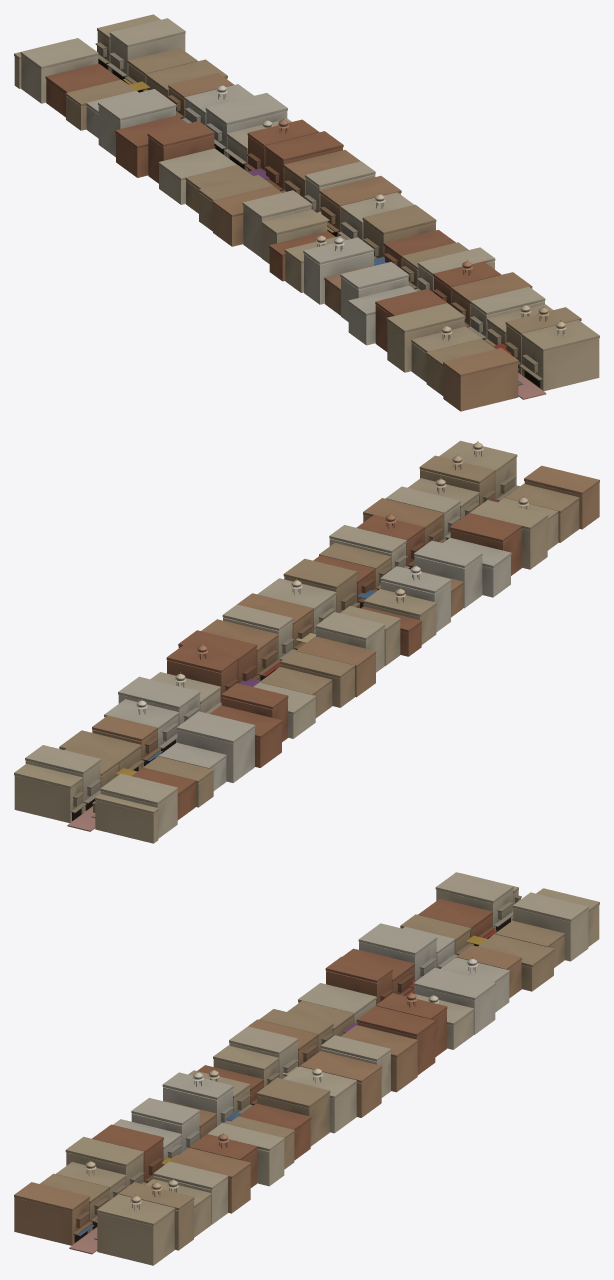
File: kinari-bazaar.glb
The picture shows the model from 3 angles, top to bottom: view 1: azimuth 30°, elevation 25°; view 2: azimuth 150°, elevation 25°; view 3: azimuth 330°, elevation 25°; orthographic projection.
Visible parts, largest first — view 1: p0_shops, p1_fronts, p2_roofs; view 2: p0_shops, p1_fronts, p2_roofs; view 3: p0_shops, p1_fronts, p2_roofs.
Part boxes in pixels (x1,y1,x2,y2): p0_shops: (14,14,599,411); p1_fronts: (95,42,542,387); p2_roofs: (216,84,566,340); p0_shops: (14,440,599,843); p1_fronts: (70,475,519,820); p2_roofs: (136,441,528,714); p0_shops: (14,872,599,1265); p1_fronts: (73,895,521,1242); p2_roofs: (85,957,477,1210).
Size of the model in its own units: 45.24 by 16.75 by 240.
